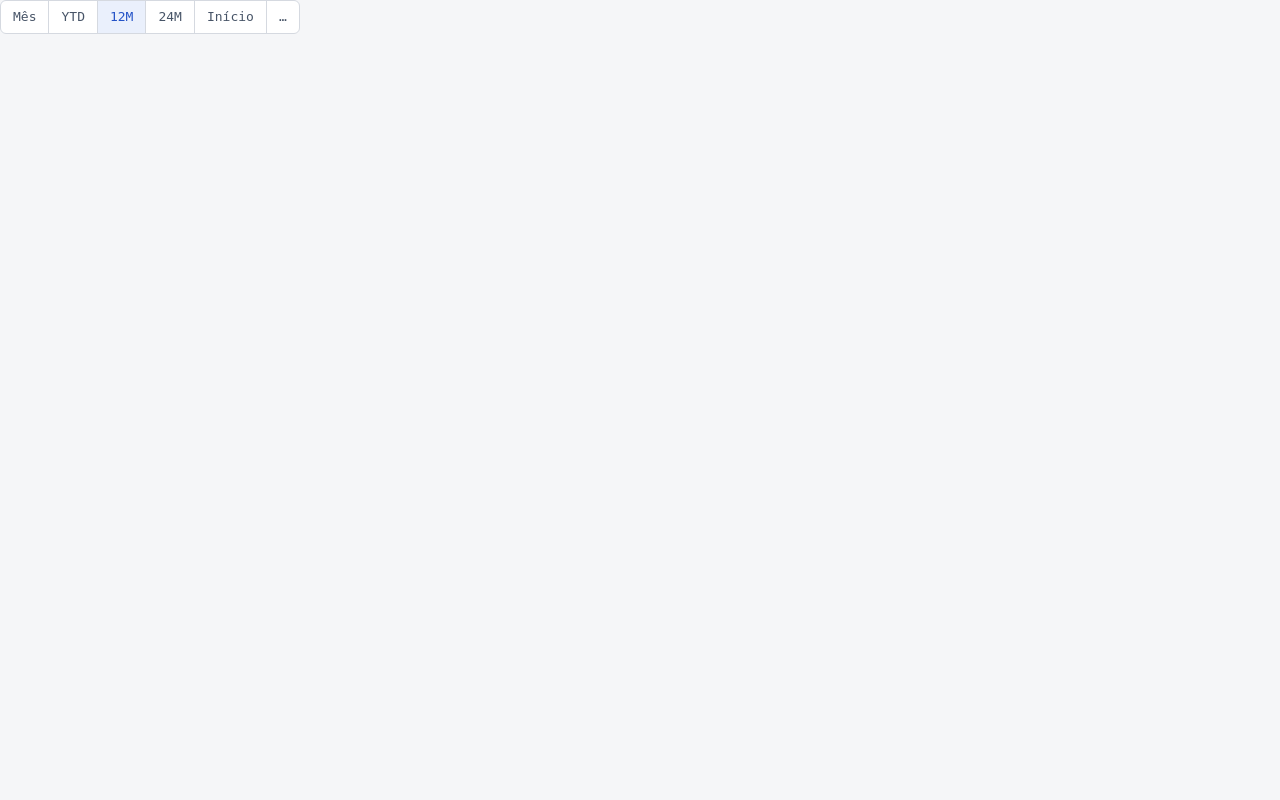
Test: barra de controles › o calendário abre com dois meses e atalhos de período comum
The width and height of the screenshot is (1280, 800).
Click the button "…" at {"x": 283, "y": 17}, box [267,1,299,33]
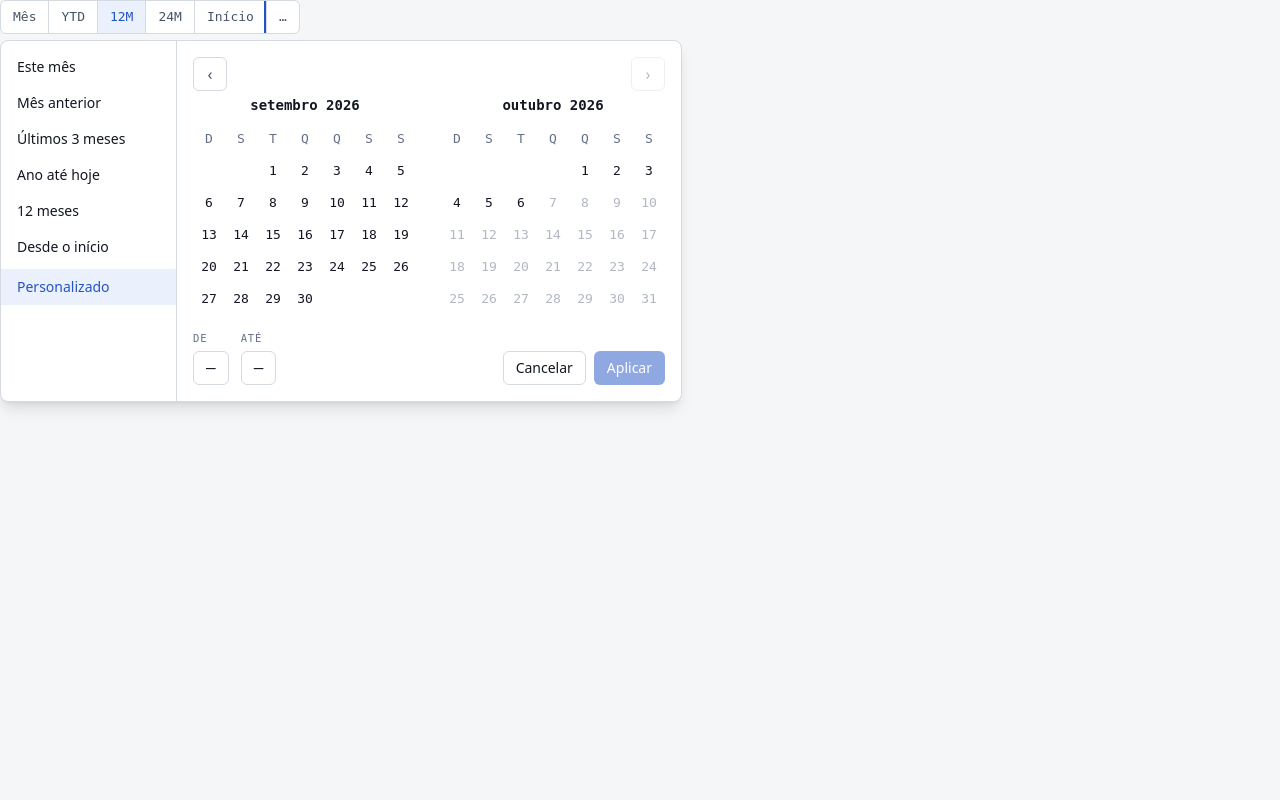
Expected: the dialog named "Período personalizado" is shown, [0,40,682,402]
Expected: the text "setembro 2026" is shown, [250,97,360,113]
Expected: the text "outubro 2026" is shown, [502,97,604,113]
